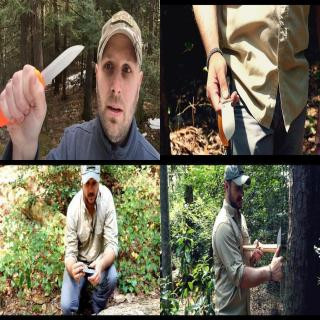knife: (11, 40, 87, 112), (210, 79, 239, 145), (70, 259, 98, 281), (273, 224, 285, 272)
